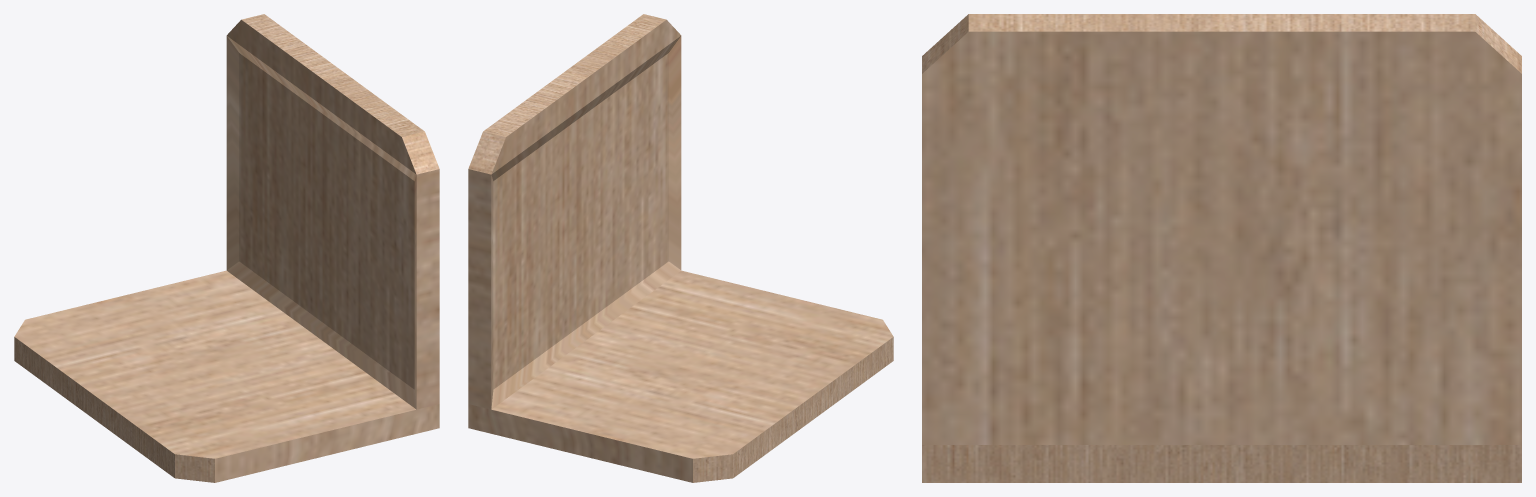
Rendered from laptop.FBX.
3 views of the same model, side by side, from view 1: azimuth 30°, elevation 25°; view 2: azimuth 150°, elevation 25°; view 3: azimuth 270°, elevation 25° (orthographic). The views are drawn at different scales.
Visible parts, largest first — view 1: laptop; view 2: laptop; view 3: laptop.
Part boxes in pixels (x1,y1,x2,y2): laptop: [14, 14, 439, 482]; laptop: [468, 14, 893, 482]; laptop: [922, 14, 1521, 482].
Bounding box in the file's own units: 29.48 × 32.2 × 38.8.
1 material, 1 textured.
